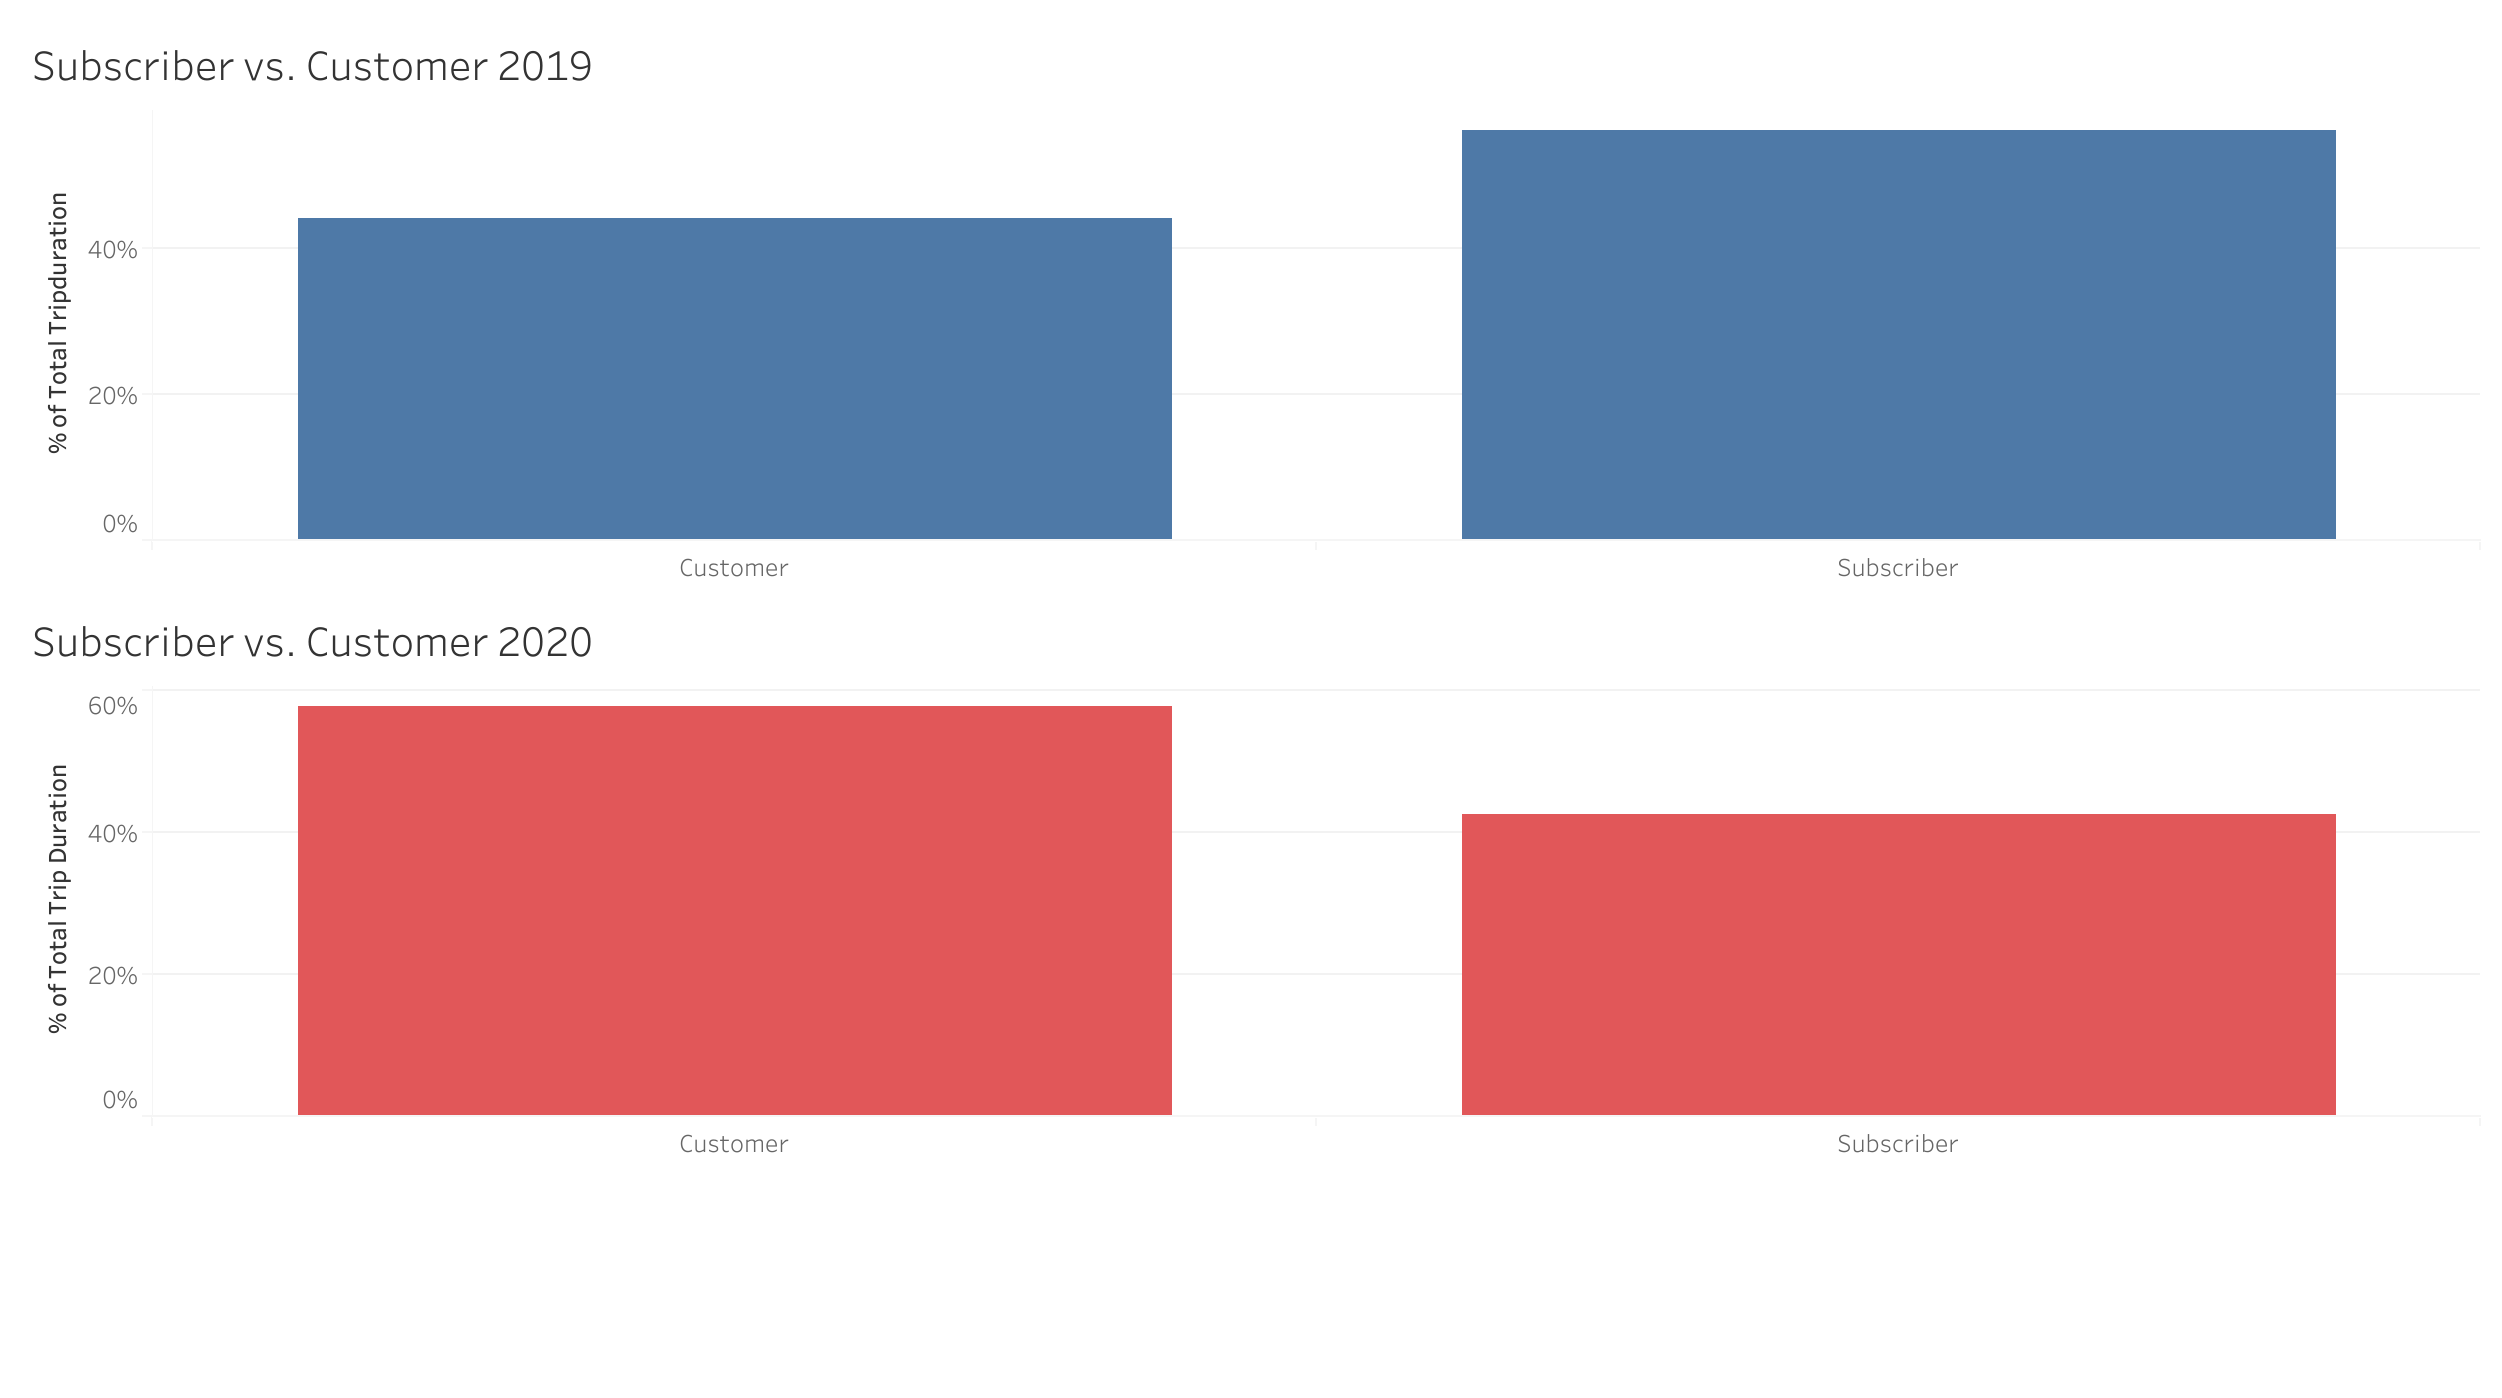

What the dashboard file says about the page in this screenshot:
{"tool":"tableau","page":{"name":"Dashboard 2","canvas":[650,860],"ordinal":1},"visuals":[{"type":"worksheet","box":[0,0,650,860]},{"type":"worksheet","title":"Subscriber vs. Customer 2019","mark":"Automatic","rows":["tripduration"],"cols":["usertype"],"box":[8,12.3,634,417.7]},{"type":"worksheet","title":"Subscriber vs. Customer 2020","mark":"Automatic","rows":["tripduration (JC-202012-citibike-tripdata.csv)"],"cols":["usertype (JC-202012-citibike-tripdata.csv)"],"box":[8,430,634,417.7]}]}

Visuals, with their boxes on the page's 650x860 design canvas (x1, y1, x2, y2). These are canvas units, not pixel positions in the 2502x1398 screenshot, which may show the page scaled, cropped or inside an application window:
worksheet: l=0, t=0, r=650, b=860
"Subscriber vs. Customer 2019" worksheet: l=8, t=12, r=642, b=430
"Subscriber vs. Customer 2020" worksheet: l=8, t=430, r=642, b=848
